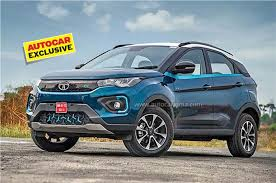Tata Nexon: (24, 41, 260, 160)
